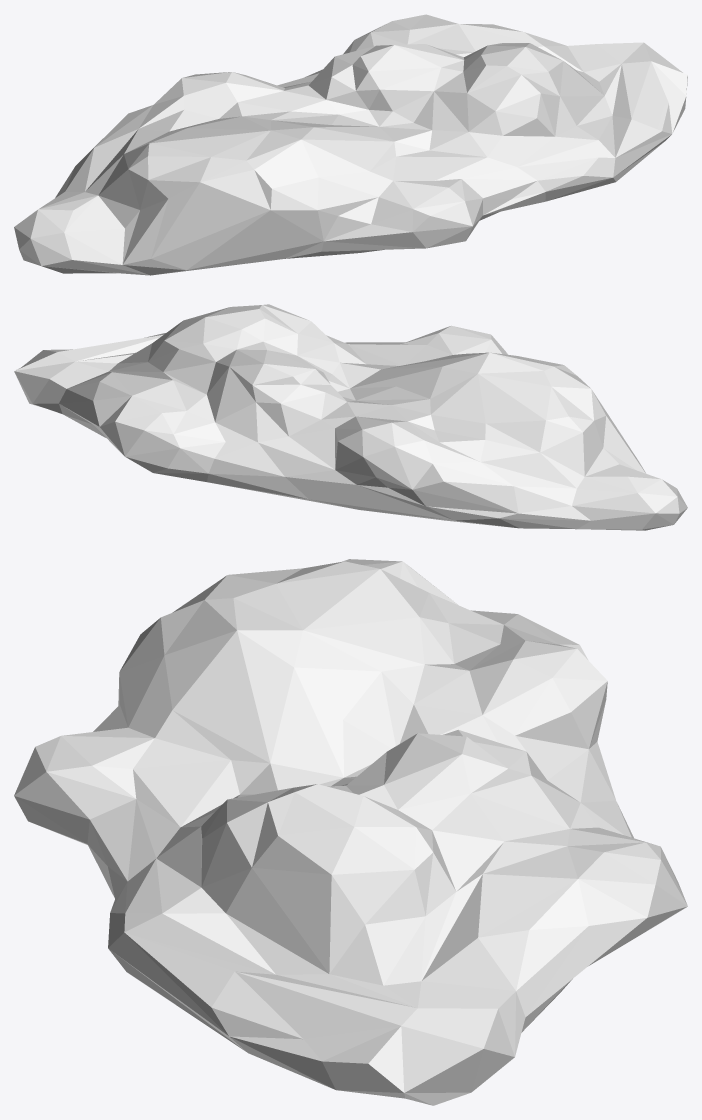
The model's file is Big_Cloud_03.glb.
3 renders of one model, top to bottom at view 1: azimuth 30°, elevation 25°; view 2: azimuth 150°, elevation 25°; view 3: azimuth 270°, elevation 25°, orthographic. The views are drawn at different scales.
Visible parts, largest first — view 1: SM_Gen_Env_Cloud_03; view 2: SM_Gen_Env_Cloud_03; view 3: SM_Gen_Env_Cloud_03.
Boxes of the visible parts, bbox=[...] form: SM_Gen_Env_Cloud_03: bbox=[14, 14, 687, 275]; SM_Gen_Env_Cloud_03: bbox=[14, 304, 687, 530]; SM_Gen_Env_Cloud_03: bbox=[14, 559, 687, 1105].
Size of the model in its own units: 44.16 by 7.2 by 24.42.
Materials: 1 (1 with a texture image).
